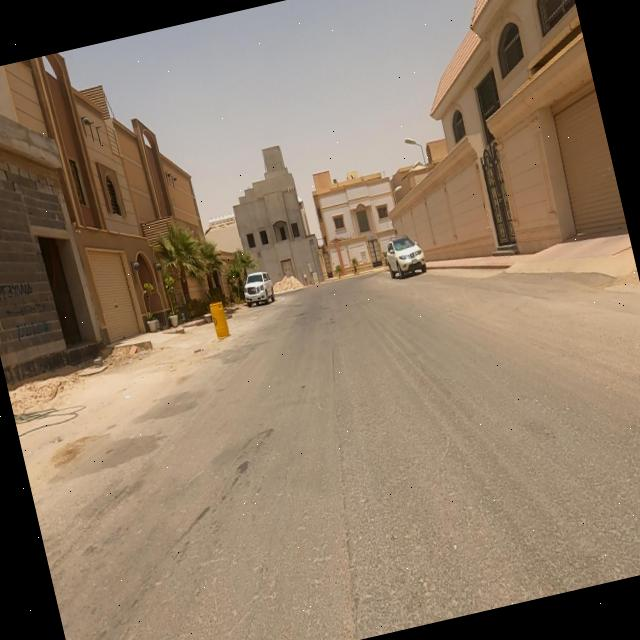Graffiti: (1, 273, 54, 344)
